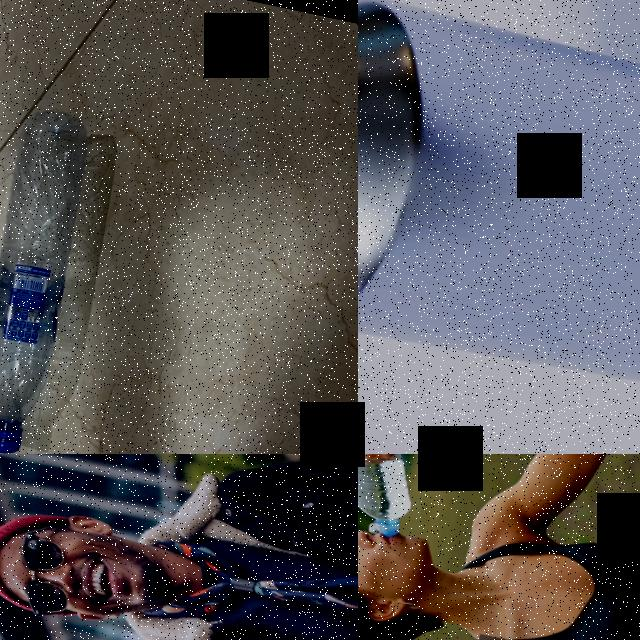bottle: (0, 101, 99, 454), (358, 454, 432, 541)
can: (358, 0, 640, 417)
